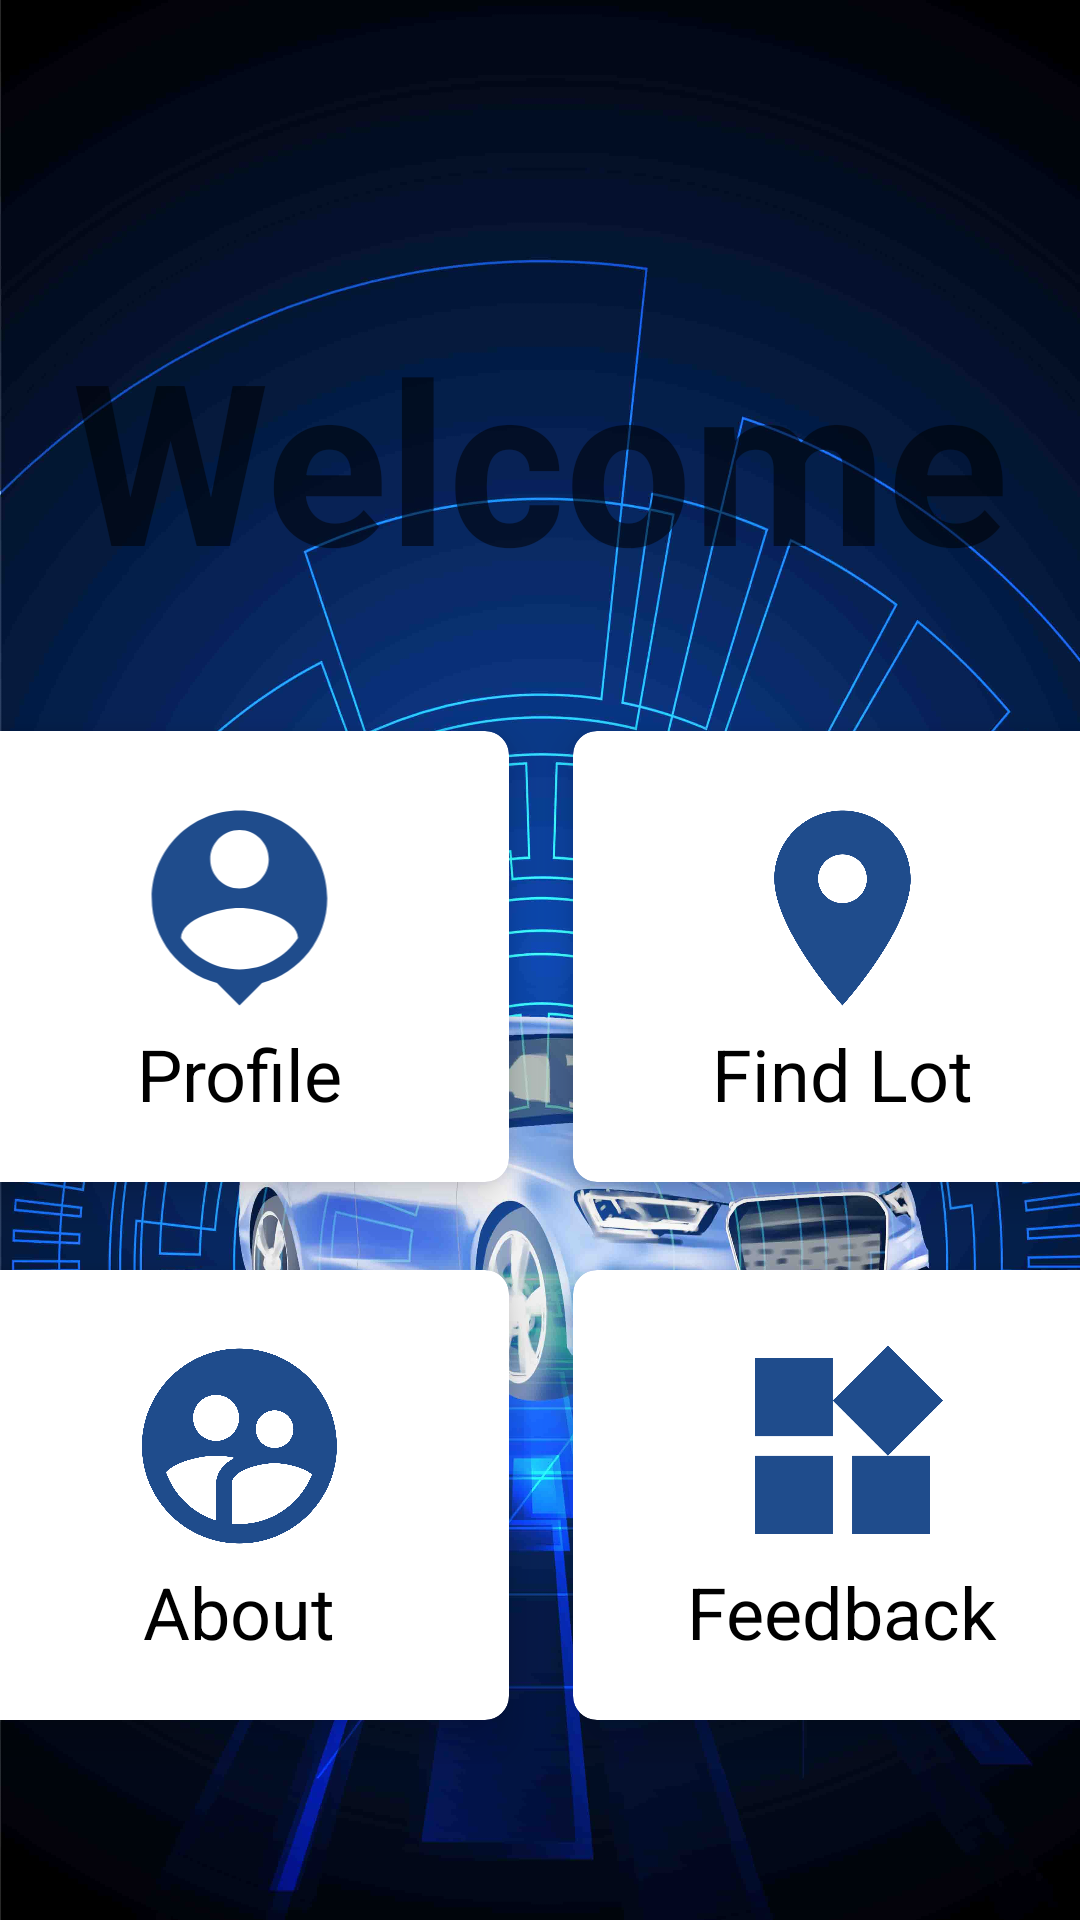

Locate icon controls on the screen. Image size 1080x1920, boxes as detection(x1, y1, x2, y2).
location: detection(774, 810, 911, 1006)
person: detection(151, 810, 328, 1006)
widgets: detection(755, 1346, 943, 1534)
